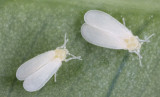whitefly: (81, 9, 154, 69), (16, 33, 81, 93)
